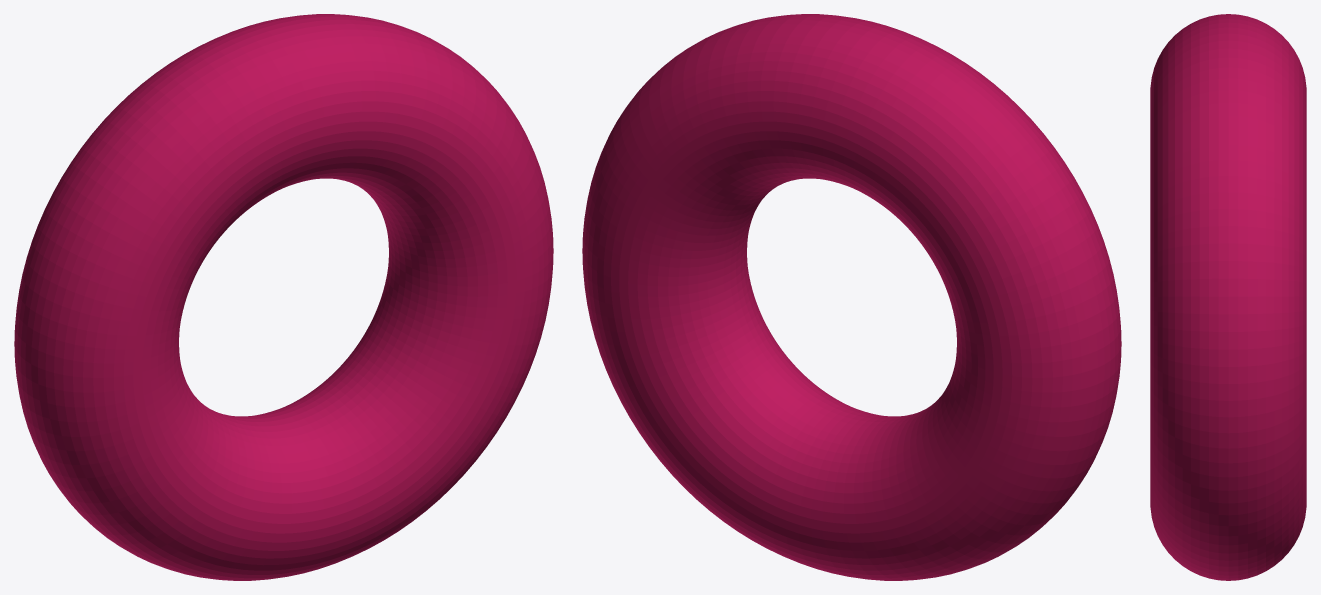
The picture shows the model from 3 angles, left to right: view 1: azimuth 30°, elevation 25°; view 2: azimuth 150°, elevation 25°; view 3: azimuth 270°, elevation 25°; orthographic projection. The views are drawn at different scales.
Visible parts, largest first — view 1: world; view 2: world; view 3: world.
Boxes of the visible parts, bbox=[...] form: world: bbox=[14, 14, 553, 580]; world: bbox=[582, 14, 1121, 580]; world: bbox=[1150, 14, 1306, 580].
Size of the model in its own units: 28.53 by 28.53 by 7.85.
